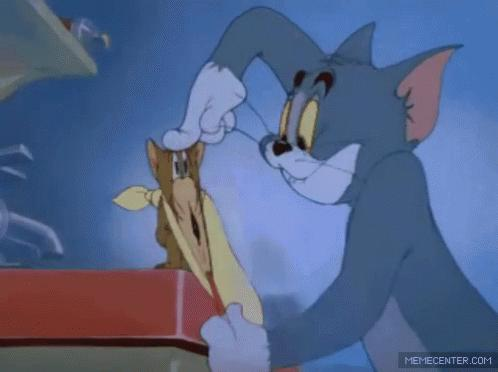jerry: (144, 138, 208, 276)
